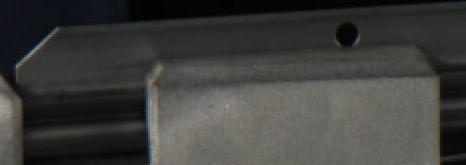cut: (14, 21, 137, 158)
holes: (334, 19, 361, 48)
